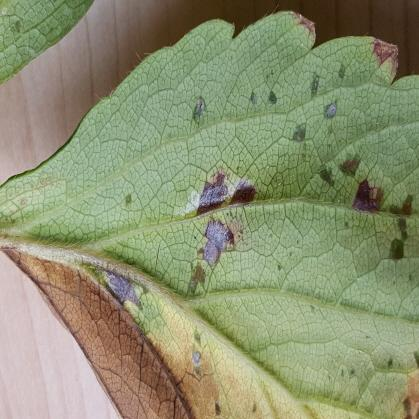Angular Leafspot: (0, 11, 418, 418)
